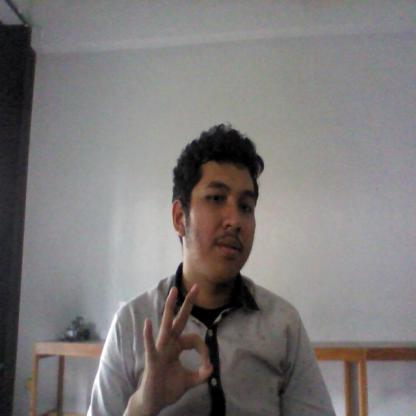O: (135, 282, 226, 410)
